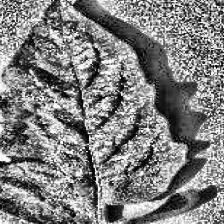spider mites: (0, 0, 201, 224)
